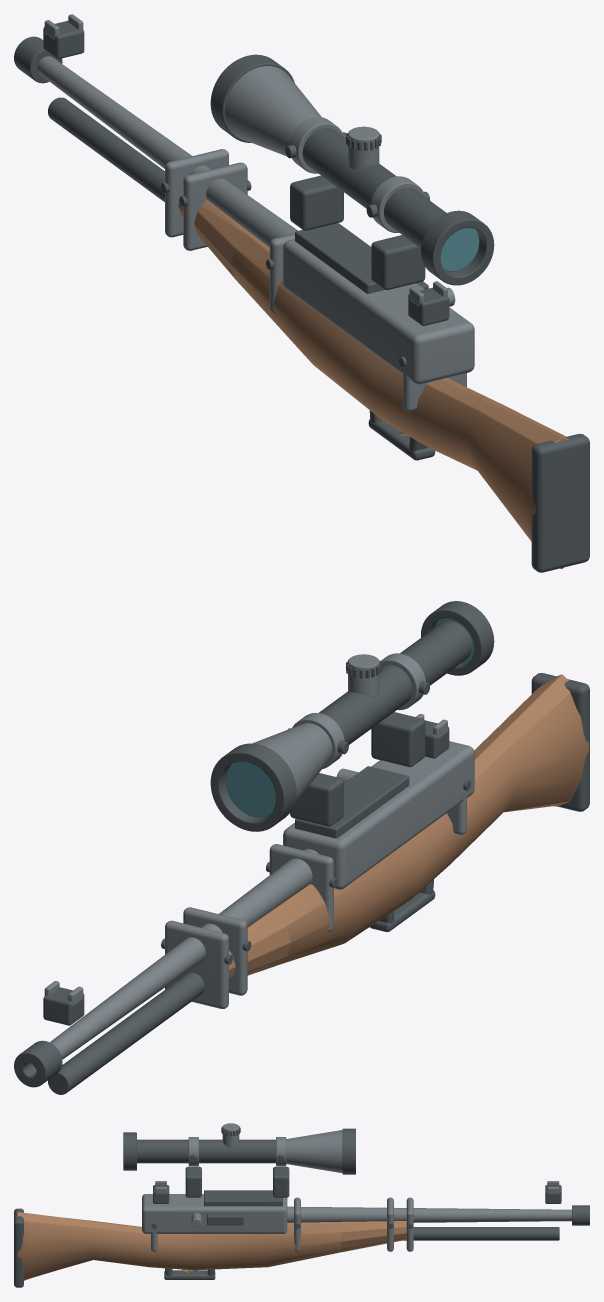
3 renders of one model, top to bottom at view 1: azimuth 30°, elevation 25°; view 2: azimuth 150°, elevation 25°; view 3: azimuth 270°, elevation 25°, orthographic. The views are drawn at different scales.
Visible parts, largest first — view 1: Dark, Steel, Wood, Glass; view 2: Dark, Steel, Wood, Glass; view 3: Wood, Steel, Dark.
Boxes of the visible parts, x1,y1,x2,y2 form: Dark: (14,20,589,572); Steel: (37,14,474,411); Wood: (178,193,568,568); Glass: (440,228,479,271); Dark: (14,601,589,1094); Steel: (33,653,474,1068); Wood: (229,674,589,979); Glass: (225,618,474,817); Wood: (17,1212,406,1280); Steel: (142,1123,571,1251); Dark: (14,1126,589,1287).
Bounding box in the file's own units: 0.102 × 0.3064 × 1.02.
